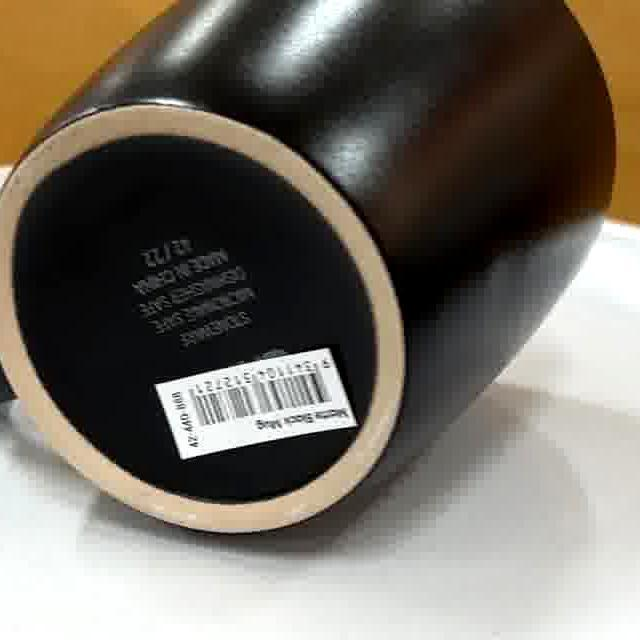cup: (0, 0, 632, 565)
